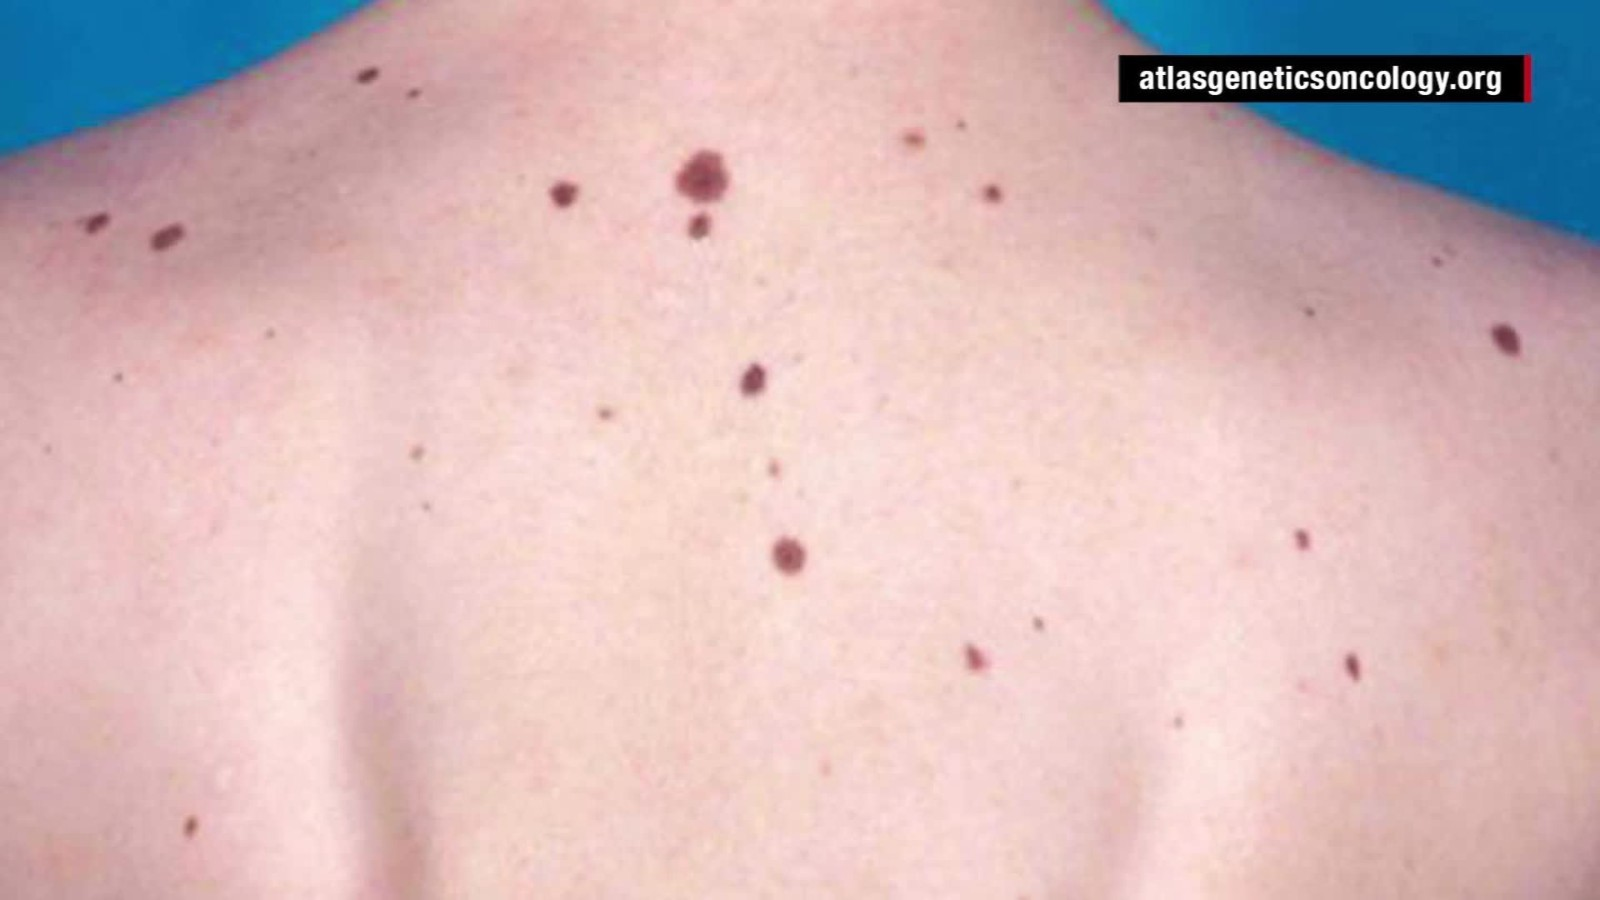Melanoma: (541, 129, 873, 599), (51, 187, 230, 271), (1463, 304, 1552, 390)
